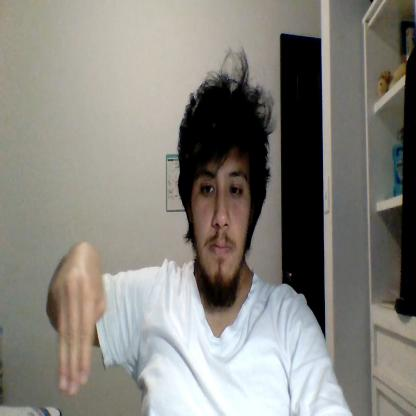M: (50, 239, 106, 395)
